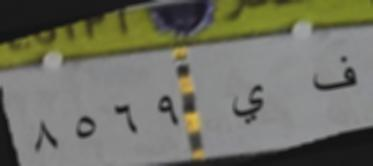5: (73, 110, 98, 147)
6: (110, 101, 140, 140)
8: (28, 114, 62, 158)
9: (152, 90, 182, 131)
faa: (311, 54, 360, 98)
yaa: (227, 78, 270, 128)
